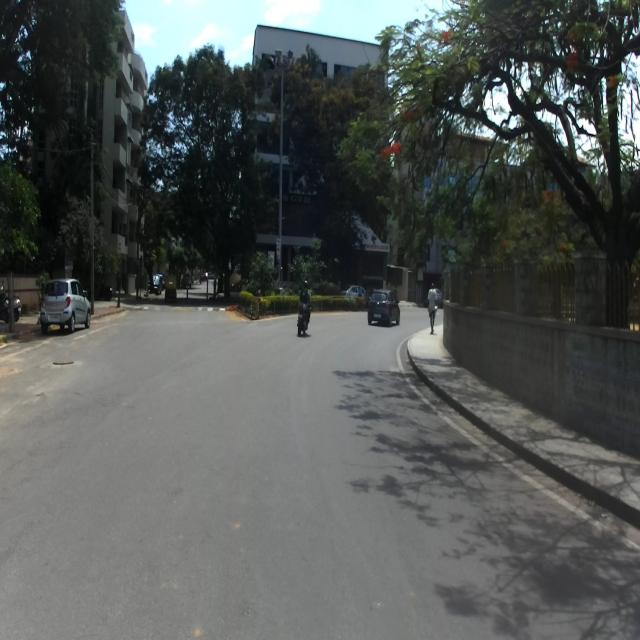car: (367, 285, 399, 325)
